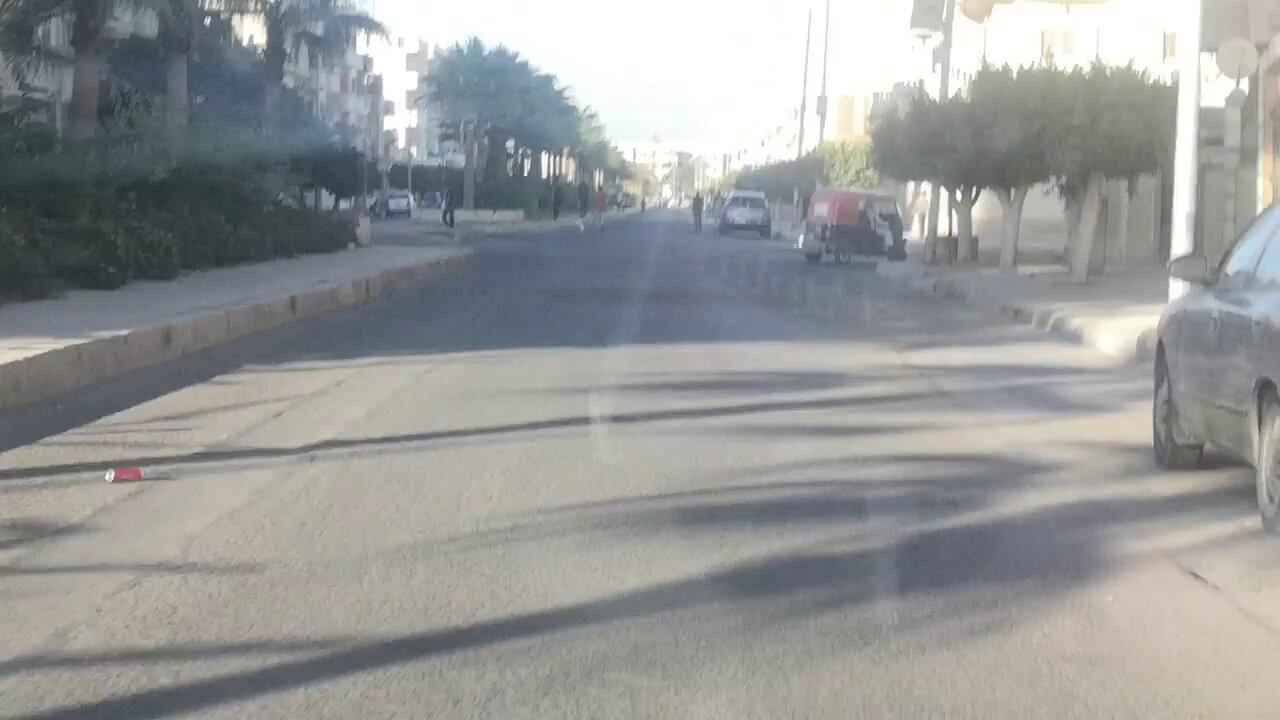Bump: (376, 276, 1018, 317)
